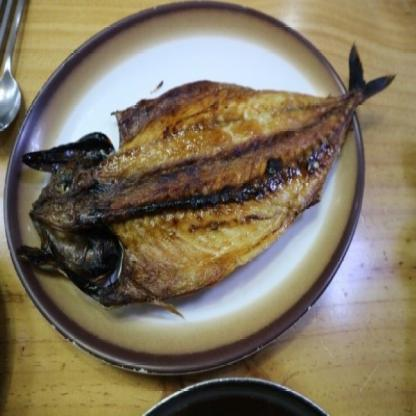Peixe: (5, 37, 398, 335)
